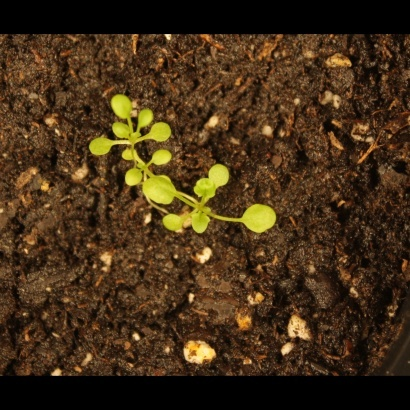leaf: (242, 201, 286, 239), (141, 174, 180, 210), (186, 208, 217, 236), (84, 133, 116, 160), (207, 159, 234, 190), (109, 94, 137, 123), (191, 177, 220, 203), (159, 209, 185, 237), (148, 120, 176, 145), (122, 167, 148, 191), (149, 147, 176, 170), (134, 106, 157, 129), (121, 144, 144, 167), (111, 121, 134, 144)
